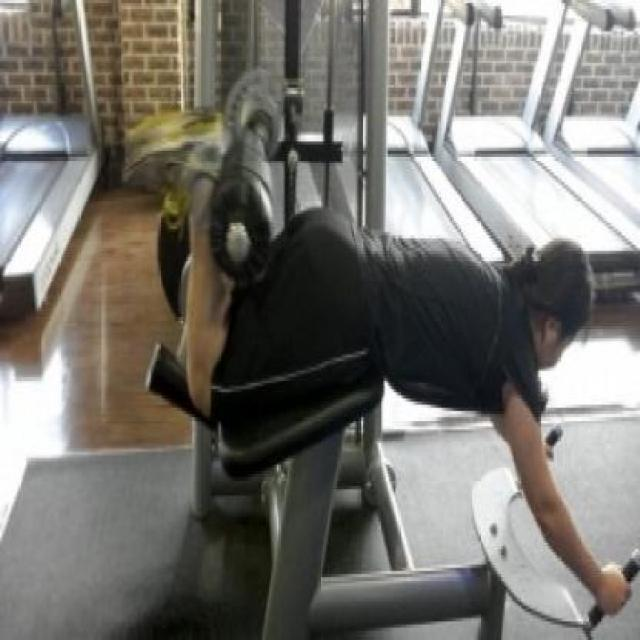reg curl machine: (118, 0, 640, 640)
